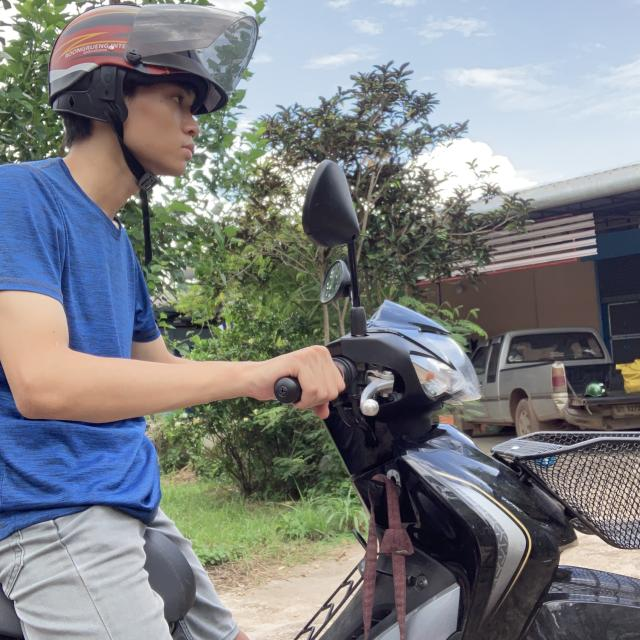helmet: (43, 2, 261, 192)
